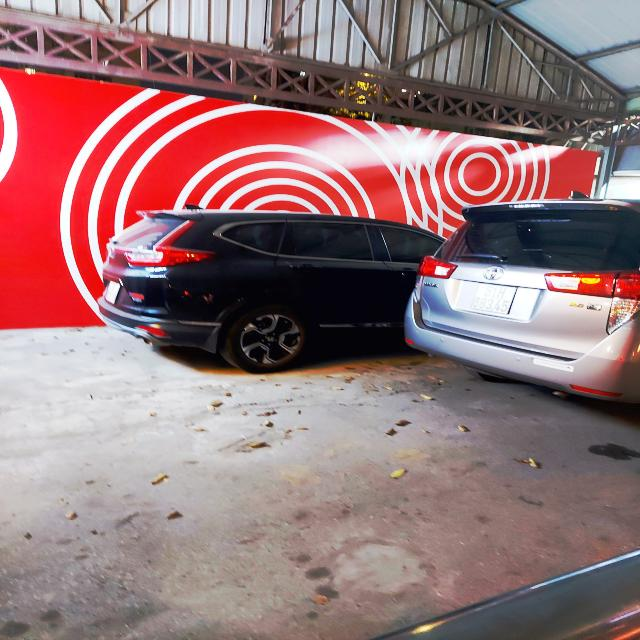license_plate: (471, 283, 519, 316)
